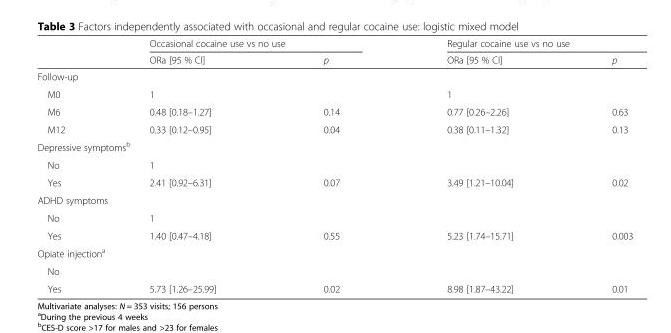table: (36, 37, 632, 294)
table column: (392, 37, 562, 294), (106, 37, 269, 294), (269, 37, 392, 294), (36, 37, 106, 294), (562, 37, 632, 294)
table column header: (36, 37, 632, 67)
table projected row header: (36, 137, 632, 155), (36, 243, 632, 261), (36, 261, 632, 279), (36, 67, 632, 84), (36, 191, 632, 208)
table row: (36, 84, 632, 102), (36, 102, 632, 120), (36, 137, 632, 155), (36, 155, 632, 173), (36, 173, 632, 191), (36, 208, 632, 226), (36, 243, 632, 261), (36, 261, 632, 279), (36, 67, 632, 84), (36, 120, 632, 137), (36, 191, 632, 208), (36, 226, 632, 243), (36, 51, 632, 67), (36, 279, 632, 294), (36, 37, 632, 51)
table spanning cell: (106, 37, 392, 51), (392, 37, 632, 51)
